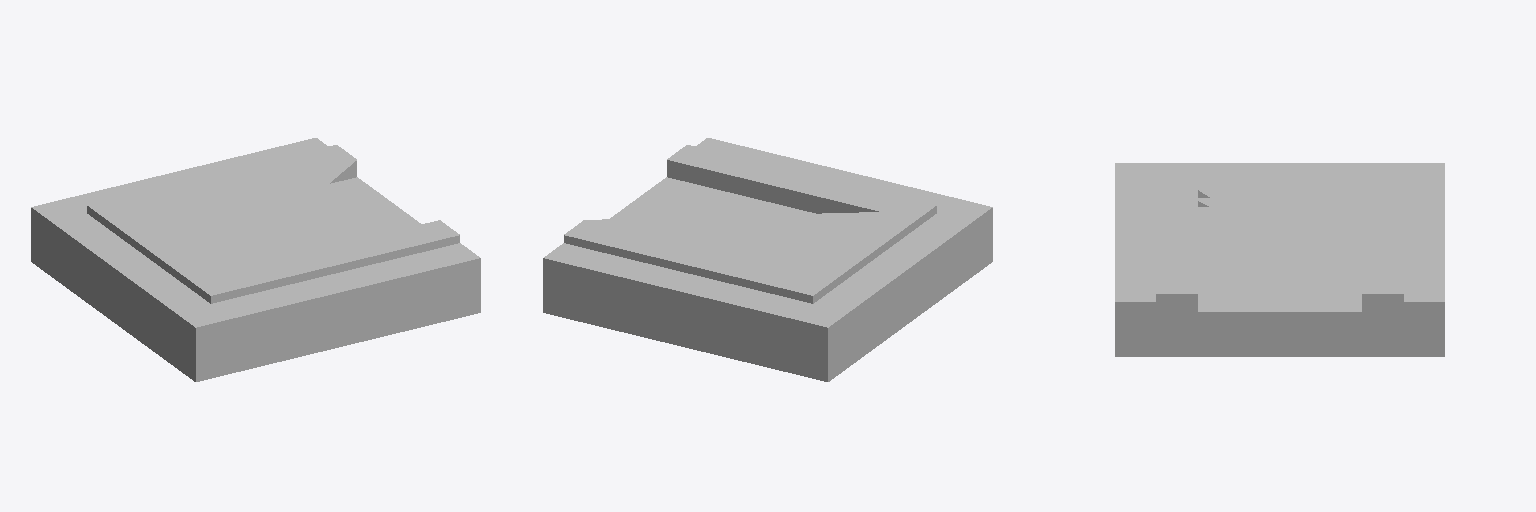
The model's file is roadTile_264.obj.
The picture shows the model from 3 angles: view 1: azimuth 30°, elevation 25°; view 2: azimuth 150°, elevation 25°; view 3: azimuth 270°, elevation 25°; orthographic projection.
Parts seen in each view (by area): view 1: Mesh1 Group1 Model; view 2: Mesh1 Group1 Model; view 3: Mesh1 Group1 Model.
Boxes of the visible parts, box(x1,y1,x2,y2) form: Mesh1 Group1 Model: box(31, 138, 480, 381); Mesh1 Group1 Model: box(543, 138, 992, 381); Mesh1 Group1 Model: box(1115, 163, 1444, 356).
Size of the model in its own units: 3 by 0.63 by 3.